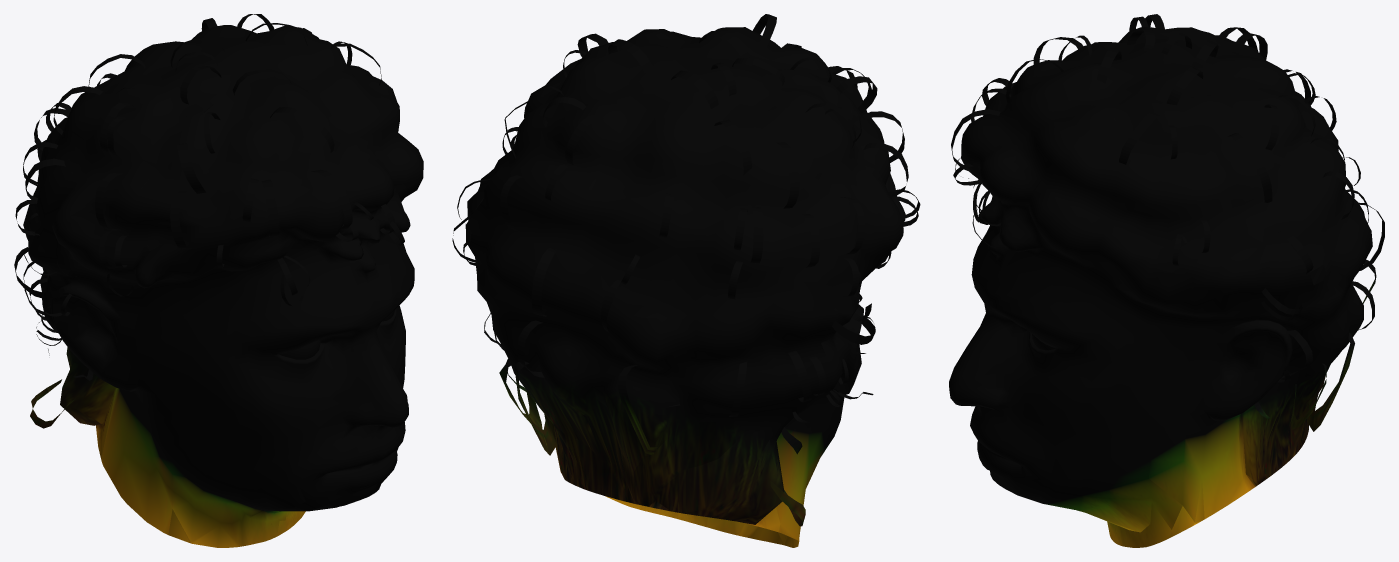
File: MEL_12.glb
The picture shows the model from 3 angles, left to right: view 1: azimuth 30°, elevation 25°; view 2: azimuth 150°, elevation 25°; view 3: azimuth 270°, elevation 25°; orthographic projection. The views are drawn at different scales.
Visible parts, largest first — view 1: tripo_node_3be51599-7726-4e8d-88a9-c044a79997fe; view 2: tripo_node_3be51599-7726-4e8d-88a9-c044a79997fe; view 3: tripo_node_3be51599-7726-4e8d-88a9-c044a79997fe.
Part boxes in pixels (x1,y1,x2,y2): tripo_node_3be51599-7726-4e8d-88a9-c044a79997fe: (14,14,423,547); tripo_node_3be51599-7726-4e8d-88a9-c044a79997fe: (452,14,920,547); tripo_node_3be51599-7726-4e8d-88a9-c044a79997fe: (949,14,1384,547).
Size of the model in its own units: 0.237 by 0.2984 by 0.2427.
Materials: 1 (1 with a texture image).
